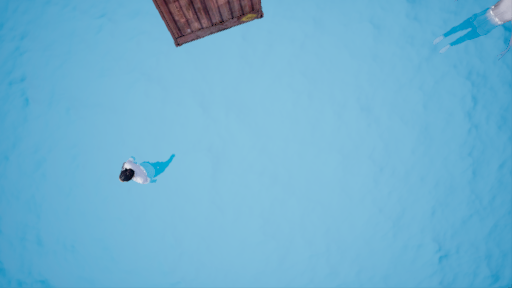person: (117, 154, 178, 194)
